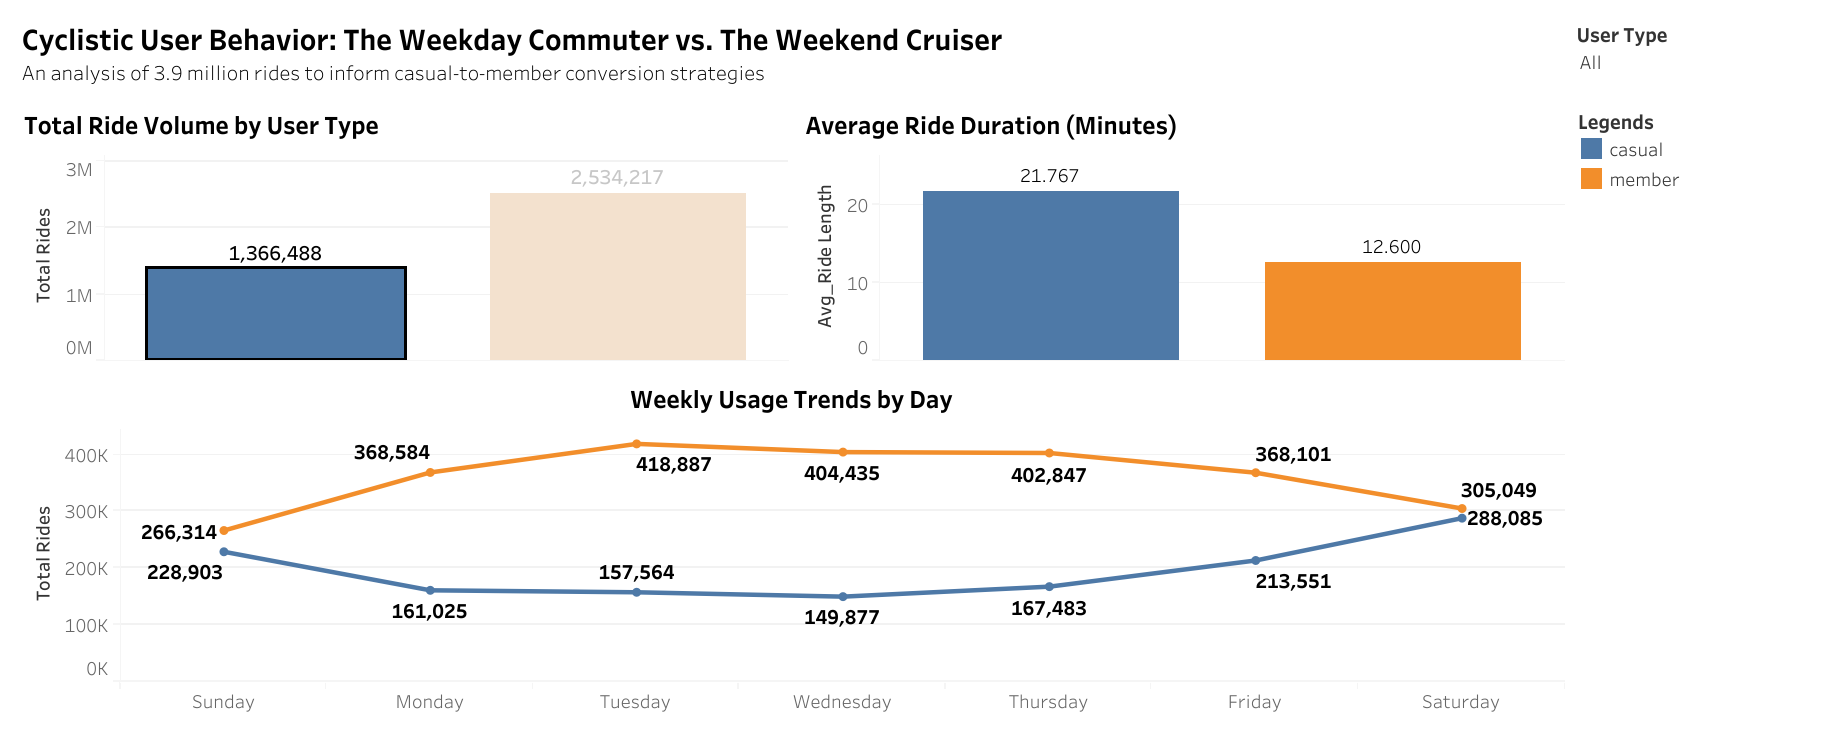

The dashboard page shown, as its layout file describes it:
{"tool":"tableau","page":{"name":"Dashboard 1","canvas":[1000,1000],"units":"permille","ordinal":0},"visuals":[{"type":"title","box":[5,9.9,890.3,91.8]},{"type":"filter","title":"Sheet 1","param":"[federated.023uu9d1an7itm13bxq4a08009v1].[none:member_casual:nk]","box":[895.3,9.9,99.8,89.3]},{"type":"legend","title":"Sheet 2","param":"[federated.023uu9d1an7itm13bxq4a08009v1].[none:member_casual:nk]","box":[895.3,99.3,99.8,106.7]},{"type":"worksheet","title":"Sheet 1","mark":"Automatic","rows":["total_rides"],"cols":["member_casual"],"box":[5,101.8,455.4,398.2]},{"type":"worksheet","title":"Sheet 2","mark":"Automatic","rows":["Calculation_19063910635323392"],"cols":["member_casual"],"box":[460.4,101.8,434.9,398.2]},{"type":"worksheet","title":"Sheet 3","mark":"Line","rows":["total_rides"],"cols":["Calculation_19063910636855299"],"box":[5,500,890.3,490.1]}]}

Visuals, with their boxes on the dashboard's canvas, which has no fixed pixel size, in thousandths of its width and height (x1, y1, x2, y2). These are canvas units, not pixel positions in the 1821x731 screenshot, which may show the page scaled, cropped or inside an application window:
title: bbox=(5, 10, 895, 102)
"Sheet 1" filter: bbox=(895, 10, 995, 99)
"Sheet 2" legend: bbox=(895, 99, 995, 206)
"Sheet 1" worksheet: bbox=(5, 102, 460, 500)
"Sheet 2" worksheet: bbox=(460, 102, 895, 500)
"Sheet 3" worksheet (Line marks): bbox=(5, 500, 895, 990)
